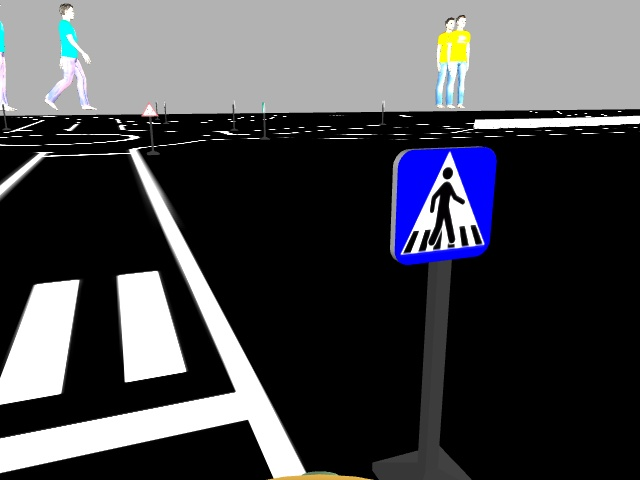Crosswalk: (387, 144, 499, 266)
